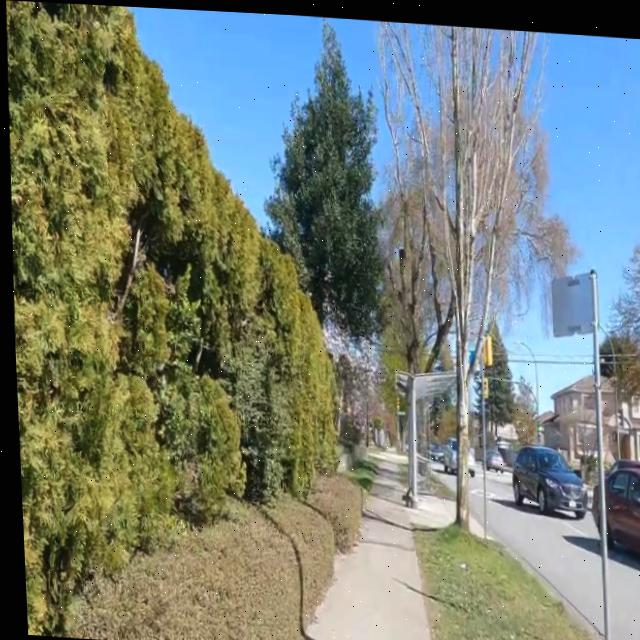Automobile: (508, 439, 582, 512), (601, 455, 640, 549), (439, 435, 452, 469), (482, 443, 499, 466), (424, 440, 437, 458), (462, 456, 470, 470)
Obstacle: (6, 0, 330, 636), (425, 19, 526, 524), (64, 493, 330, 640), (411, 520, 592, 640), (219, 313, 289, 500), (383, 18, 430, 177), (586, 262, 605, 640), (302, 469, 357, 548), (401, 370, 410, 503), (343, 456, 372, 486)
Road: (482, 467, 596, 625), (482, 490, 593, 622), (605, 540, 640, 640), (609, 560, 640, 640), (424, 457, 450, 496), (466, 488, 477, 520), (467, 462, 477, 490), (468, 514, 476, 530)
Sidewalk: (297, 448, 445, 640)
